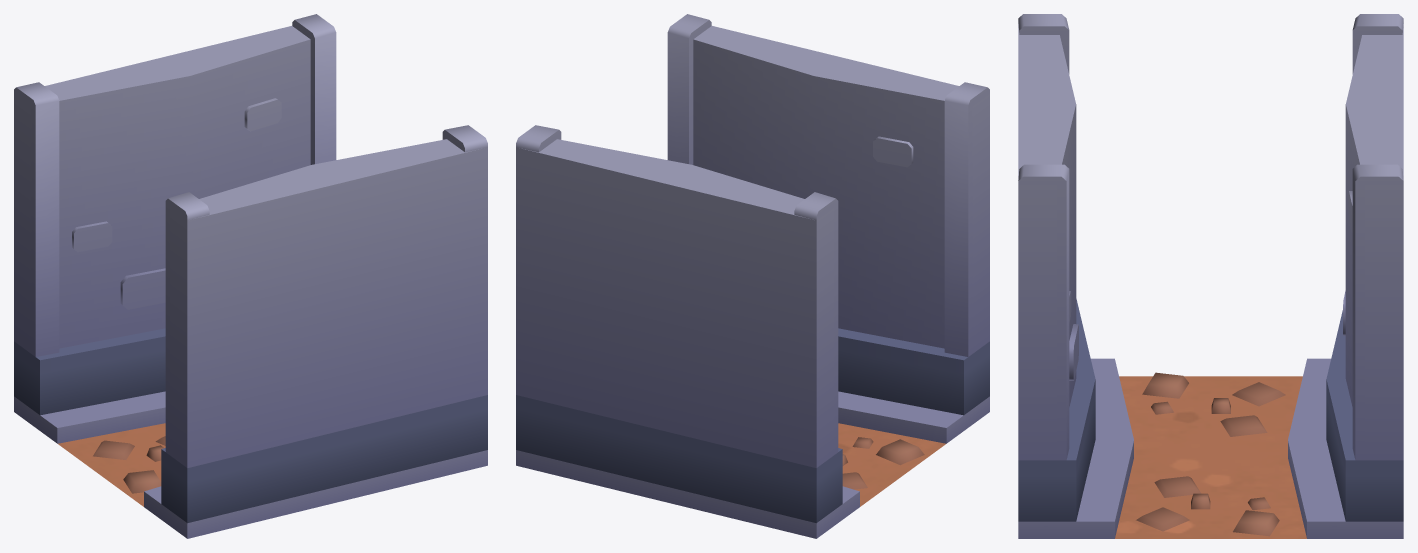
File: room_connector.glb
3 renders of one model, left to right at view 1: azimuth 30°, elevation 25°; view 2: azimuth 150°, elevation 25°; view 3: azimuth 270°, elevation 25°, orthographic. The views are drawn at different scales.
Visible parts, largest first — view 1: corridor; view 2: corridor; view 3: corridor.
Part boxes in pixels (x1,y1,x2,y2): corridor: (14, 14, 487, 538); corridor: (516, 14, 989, 538); corridor: (1018, 14, 1403, 538).
Size of the model in its own units: 4 by 4.15 by 4.
1 material, 1 textured.
